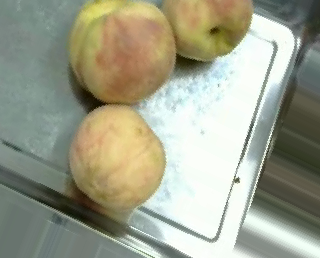Peach: (70, 1, 177, 103), (69, 103, 165, 216), (162, 0, 253, 62)
